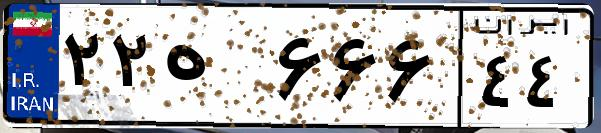2: (57, 26, 110, 100), (110, 28, 158, 98)
4: (475, 38, 525, 113), (525, 38, 570, 115)
6: (270, 28, 330, 110), (385, 28, 445, 110), (330, 28, 385, 110)
ه: (158, 20, 270, 120)
